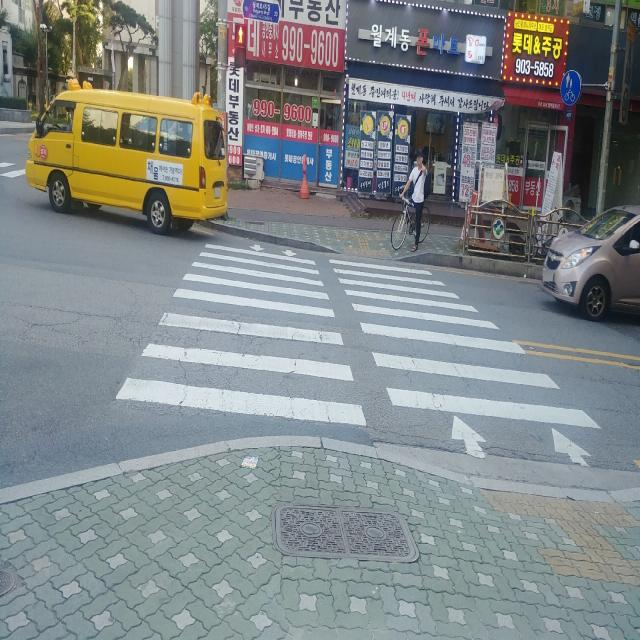횡단보도: (115, 243, 603, 467)
